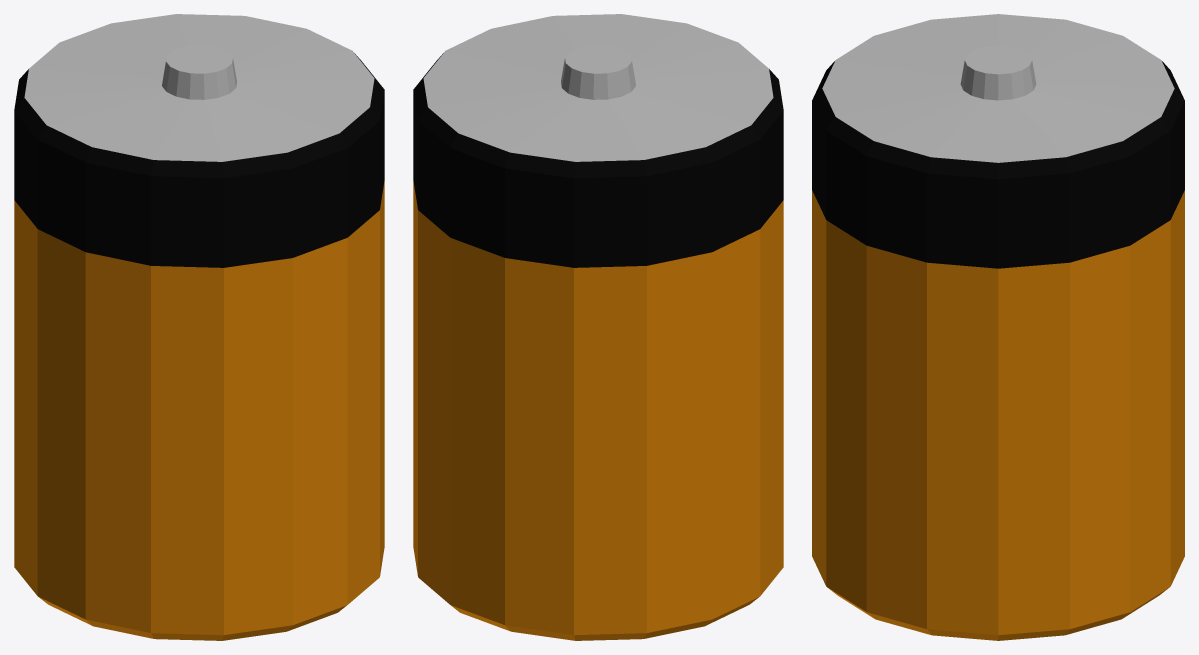
Rendered from Battery_02.fbx.
3 views of the same model, side by side, from view 1: azimuth 30°, elevation 25°; view 2: azimuth 150°, elevation 25°; view 3: azimuth 270°, elevation 25° (orthographic).
Visible parts, largest first — view 1: Battery_02; view 2: Battery_02; view 3: Battery_02.
Boxes of the visible parts, <box> form: Battery_02: <box>14,14,384,640</box>; Battery_02: <box>413,14,783,640</box>; Battery_02: <box>812,14,1184,640</box>.
Size of the model in its own units: 11.99 by 18 by 11.99.
